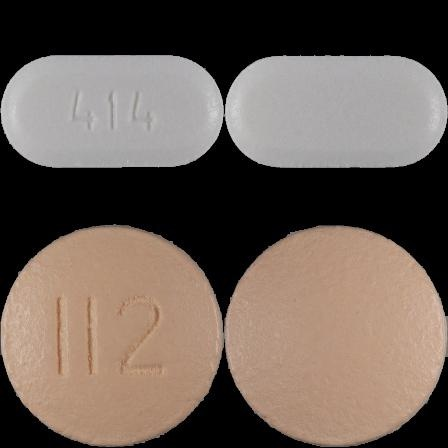55154-5043: (0, 0, 224, 224)
